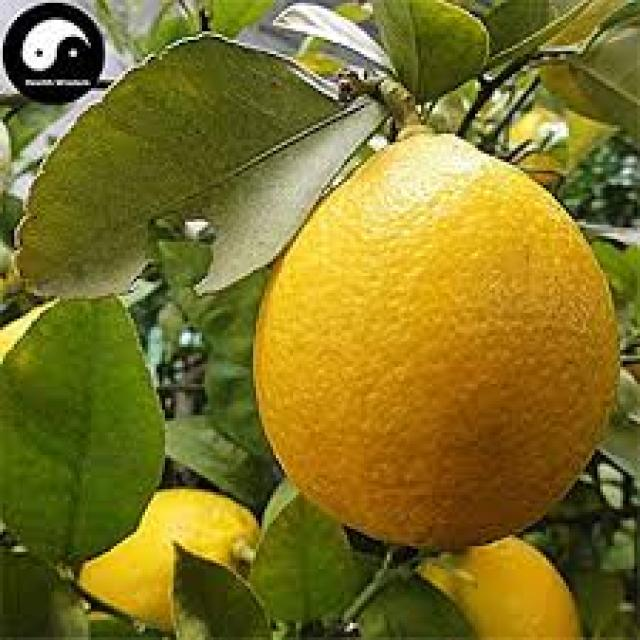Lemon: (252, 128, 624, 555)
